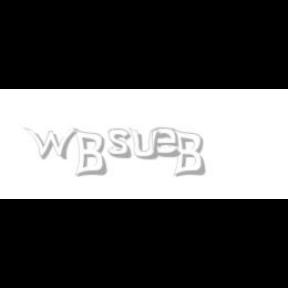B: (73, 128, 107, 178), (171, 128, 205, 178)
e: (152, 128, 184, 158)
s: (108, 128, 136, 160)
u: (128, 128, 163, 160)
w: (24, 128, 83, 160)
